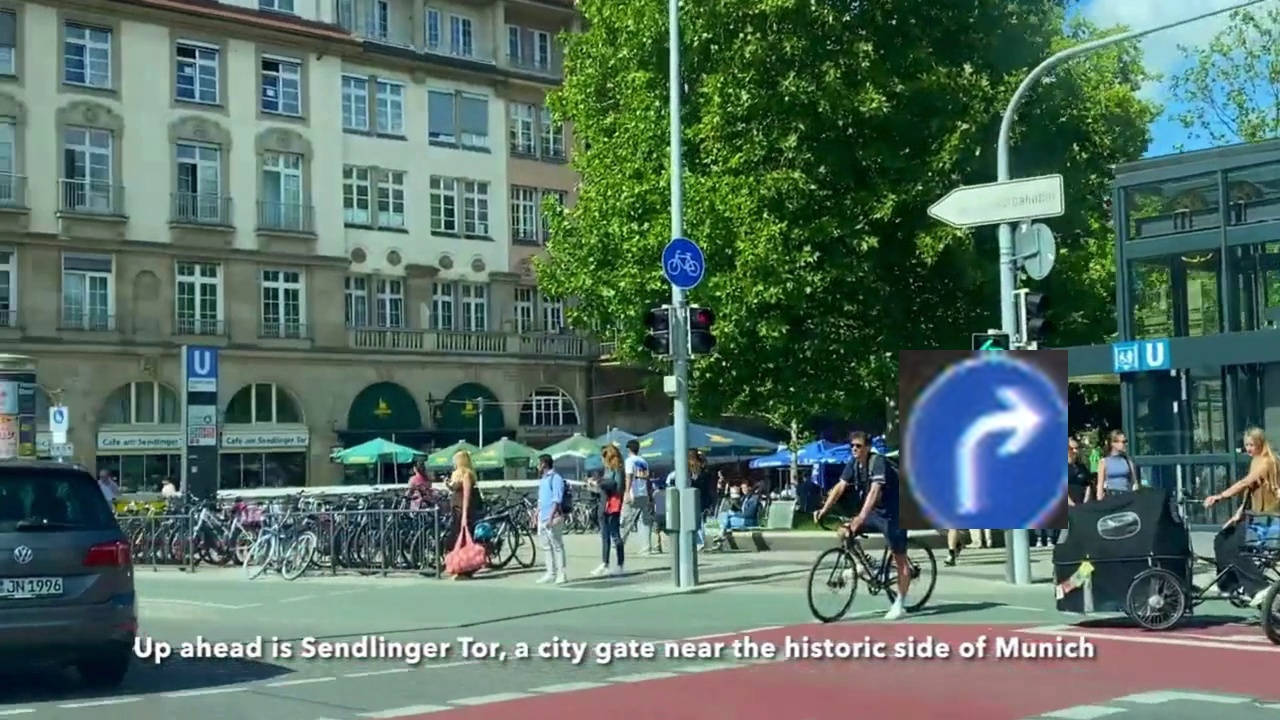Turn right: (899, 350, 1068, 529)
